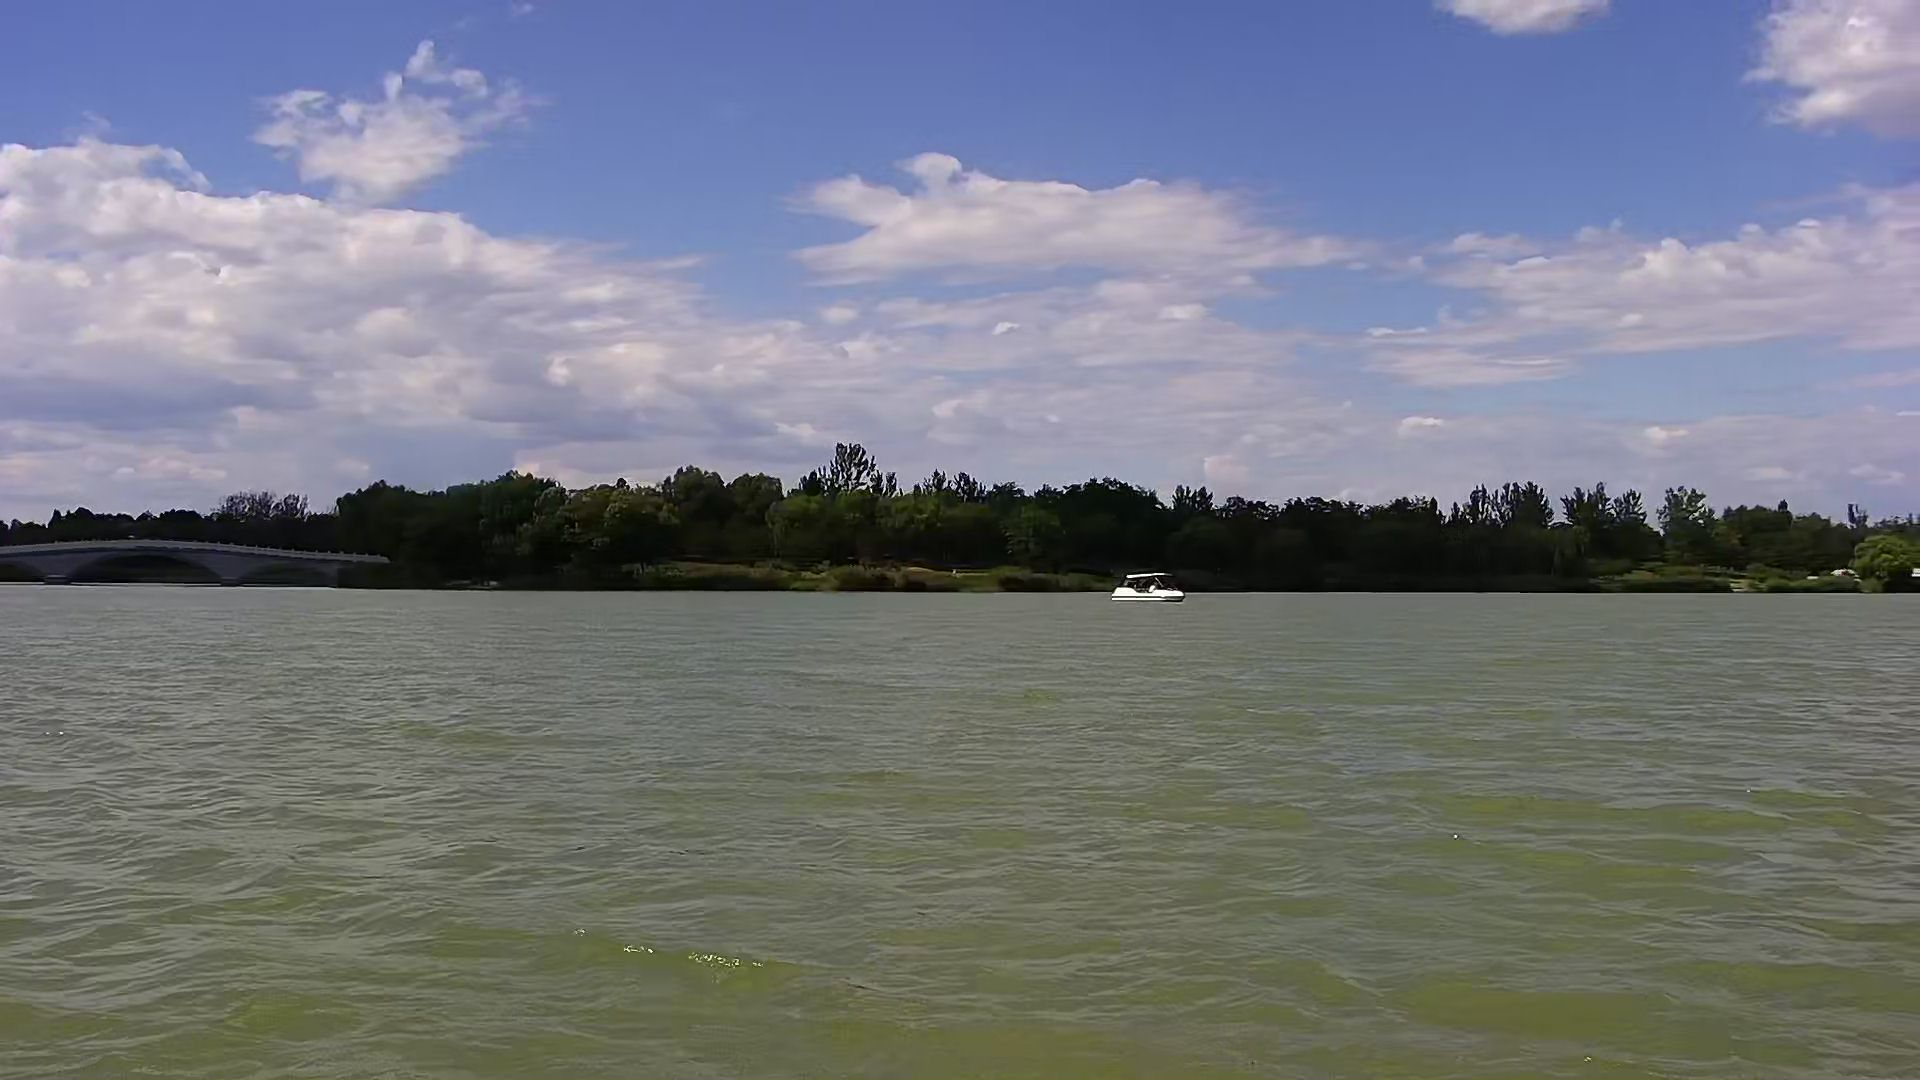boat: (1105, 566, 1191, 612)
bridge: (1, 539, 382, 588)
